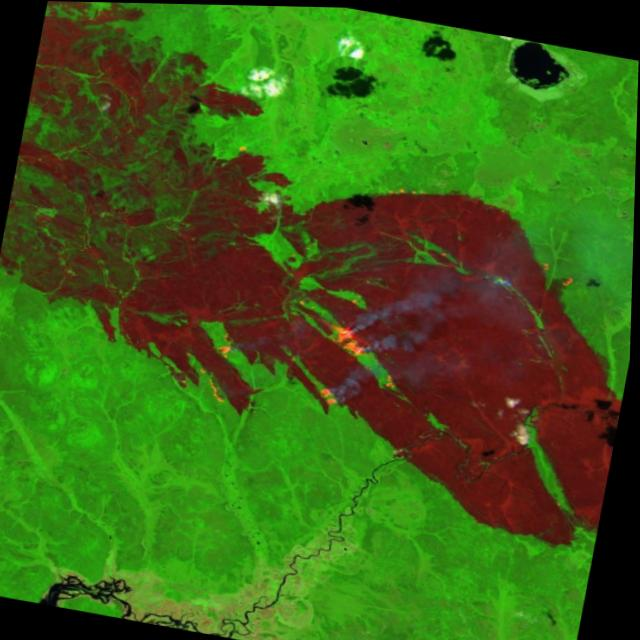fire: (190, 327, 255, 410), (523, 255, 589, 291), (326, 323, 377, 359), (312, 382, 353, 413)
